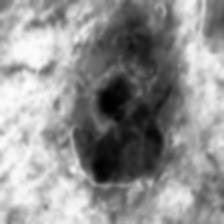Potentially Malignant Skin Tumors: (66, 26, 171, 190)
